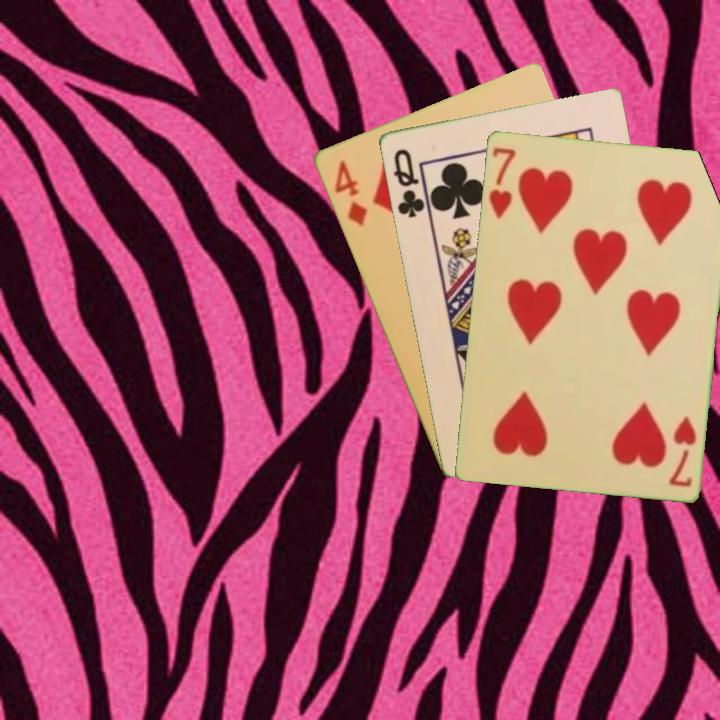4d: (330, 156, 370, 229)
7h: (485, 143, 519, 222), (665, 412, 699, 490)
Qc: (389, 145, 431, 221)
